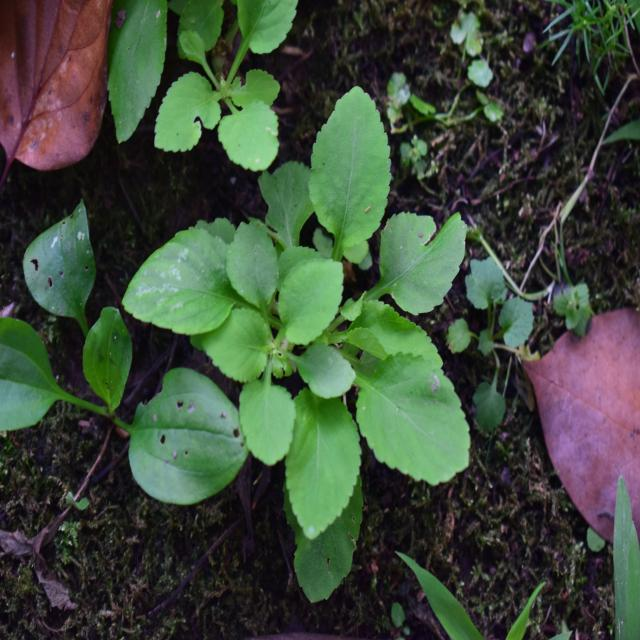Viola: (176, 93, 472, 524)
